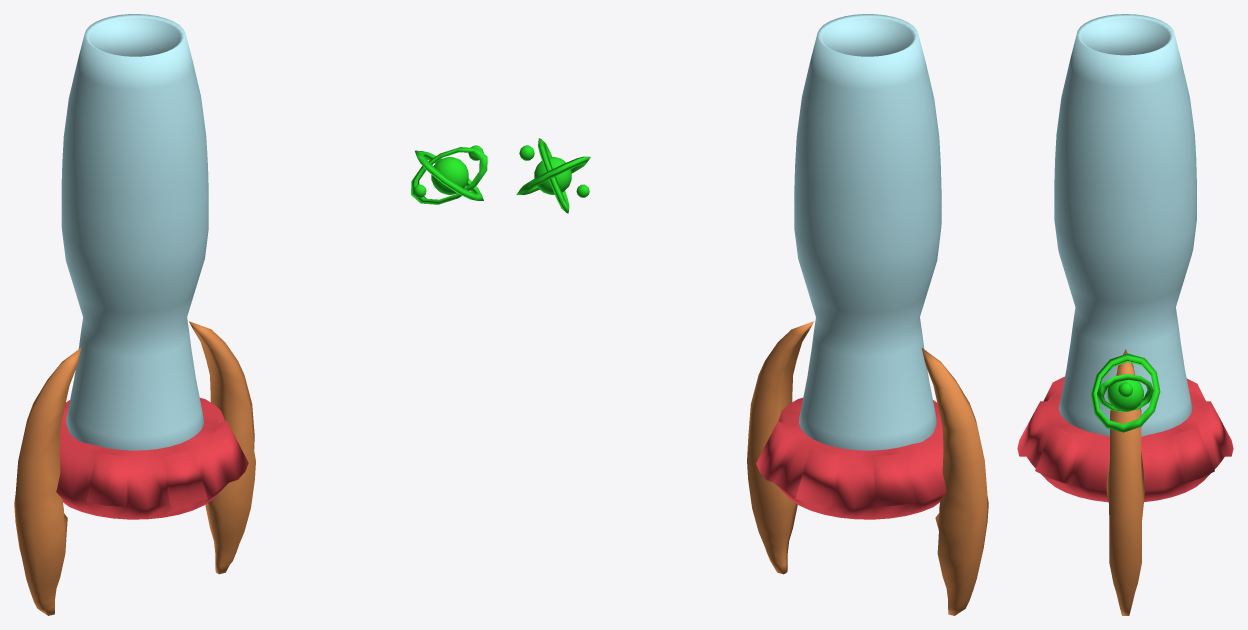
Rendered from FINAL_easyMode_AlienBlender 1.fbx.
3 renders of one model, left to right at view 1: azimuth 30°, elevation 25°; view 2: azimuth 150°, elevation 25°; view 3: azimuth 270°, elevation 25°, orthographic. The views are drawn at different scales.
Visible parts, largest first — view 1: blenderGlass, stands, nutAndBase, Atom; view 2: blenderGlass, stands, nutAndBase, Atom; view 3: blenderGlass, nutAndBase, stands, Atom.
Boxes of the visible parts, x1,y1,x2,y2 form: blenderGlass: (61,14,208,450); stands: (14,321,255,615); nutAndBase: (56,397,248,519); Atom: (411,145,487,204); blenderGlass: (794,14,941,450); stands: (747,321,988,615); nutAndBase: (756,397,946,519); Atom: (516,138,590,213); blenderGlass: (1054,14,1196,436); nutAndBase: (1017,376,1233,502); stands: (1106,349,1144,615); Atom: (1091,353,1160,432).
Bounding box in the file's own units: 317 × 362 × 131.
